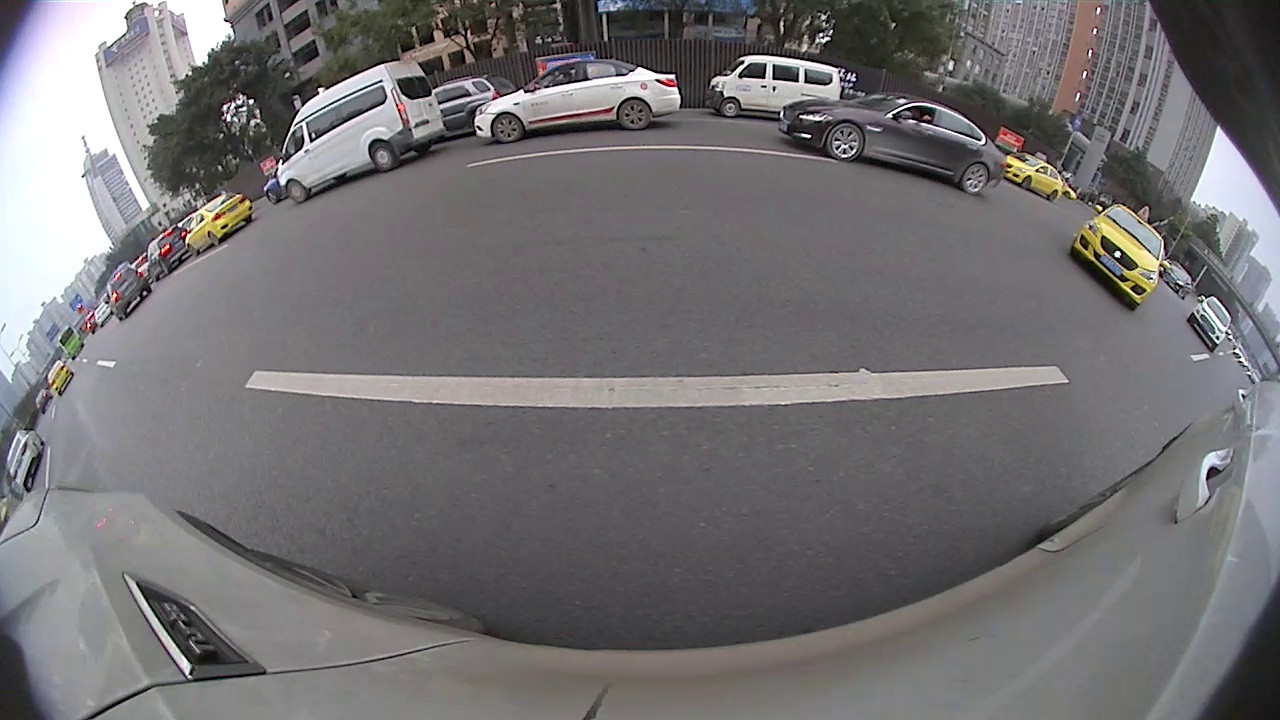car: (277, 60, 445, 204), (778, 93, 1006, 195), (473, 60, 681, 143), (1069, 206, 1165, 313), (706, 54, 842, 118), (185, 190, 254, 256), (432, 76, 502, 133), (1004, 151, 1063, 202), (105, 263, 154, 321), (1186, 295, 1233, 353), (147, 226, 192, 283), (4, 430, 45, 492), (1162, 260, 1194, 300), (46, 359, 75, 397)
front: (830, 123, 862, 160), (491, 116, 523, 141), (285, 181, 307, 202), (722, 98, 741, 116), (1022, 179, 1030, 191)
rear: (621, 100, 650, 129), (369, 145, 398, 173), (965, 162, 988, 194), (1050, 191, 1058, 201)
